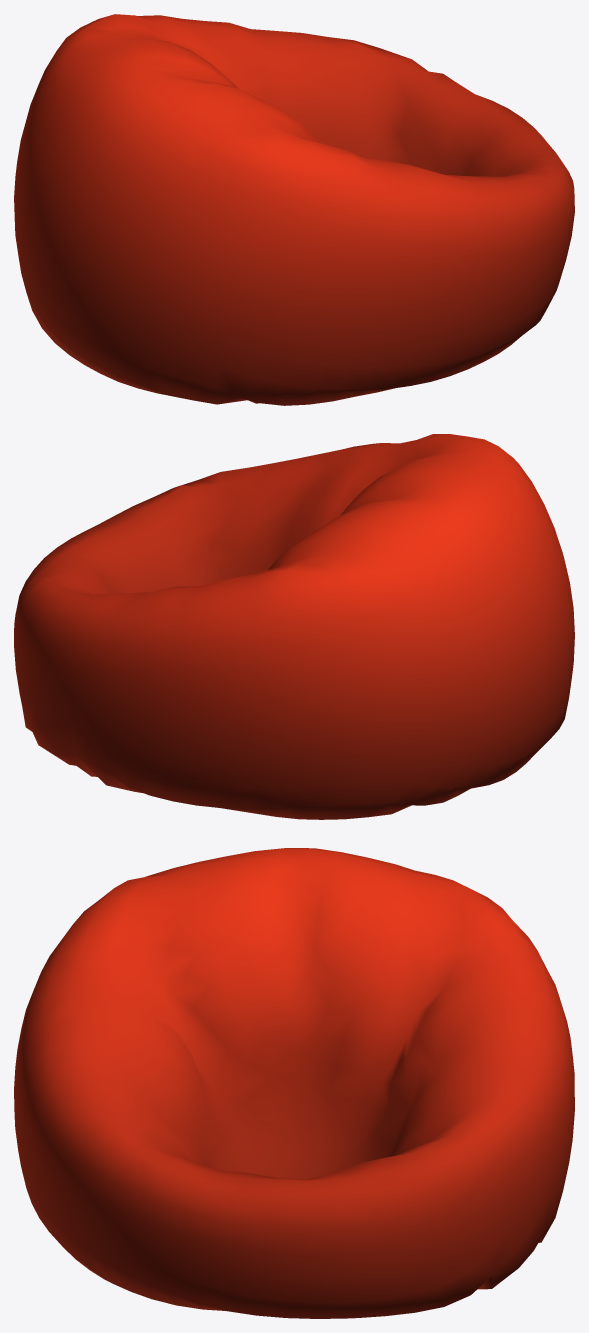
File: SM_puf1.fbx
3 views of the same model, one above another, from view 1: azimuth 30°, elevation 25°; view 2: azimuth 150°, elevation 25°; view 3: azimuth 270°, elevation 25° (orthographic). The views are drawn at different scales.
Parts seen in each view (by area): view 1: bean bag low poly; view 2: bean bag low poly; view 3: bean bag low poly.
Part boxes in pixels (box(x1,y1,x2,y2)): bean bag low poly: box(14, 14, 574, 405); bean bag low poly: box(14, 434, 574, 819); bean bag low poly: box(14, 848, 574, 1318).
Size of the model in its own units: 192 by 99.62 by 181.
